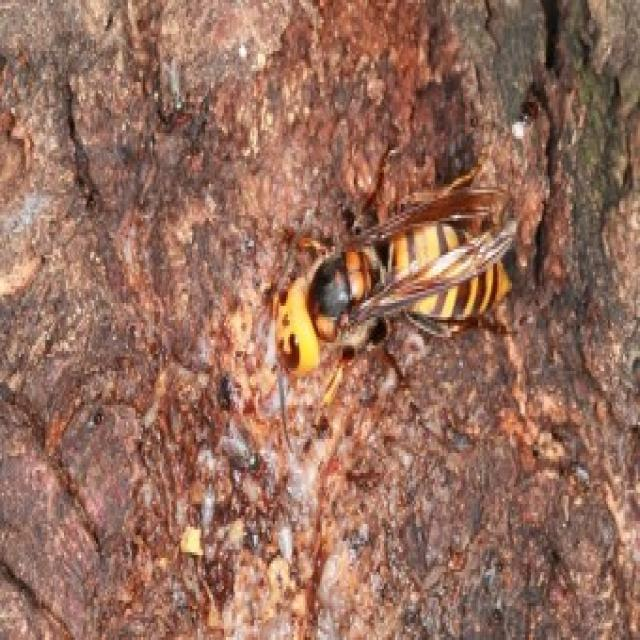Wasp: (267, 154, 522, 388)
